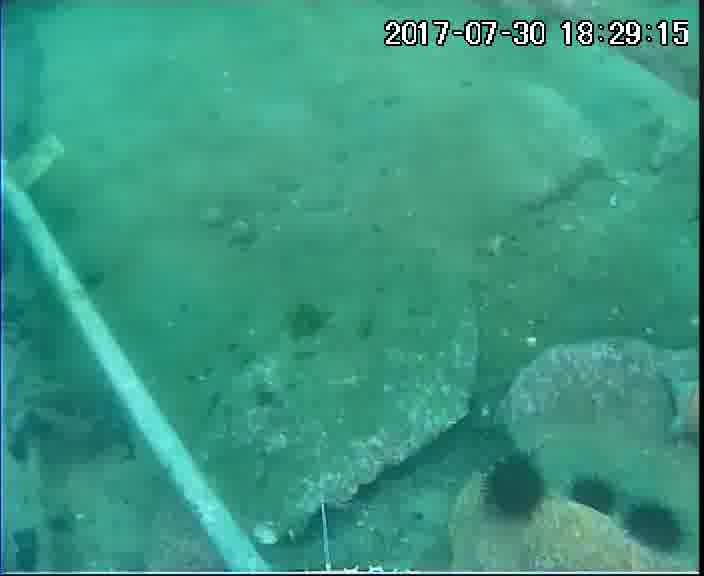echinus: (484, 460, 546, 515), (626, 499, 684, 556), (570, 476, 623, 520)
